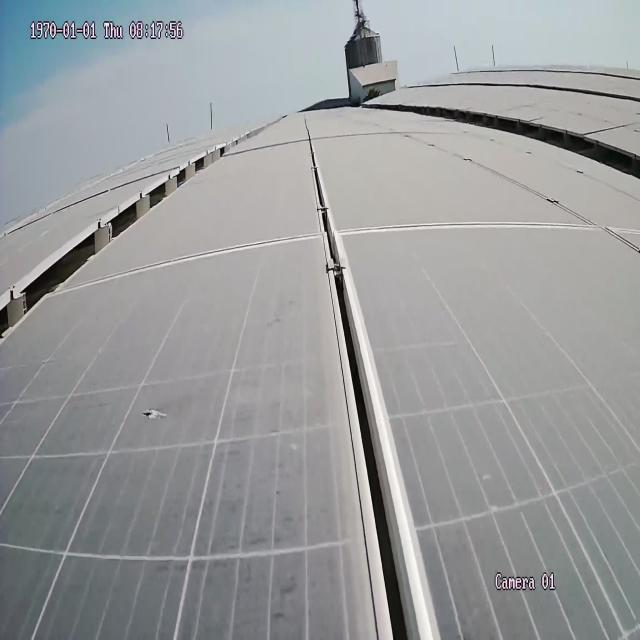interior panel: (317, 130, 434, 636), (391, 94, 640, 182), (68, 227, 316, 292), (346, 217, 565, 240)
outher panel: (6, 157, 232, 328)
